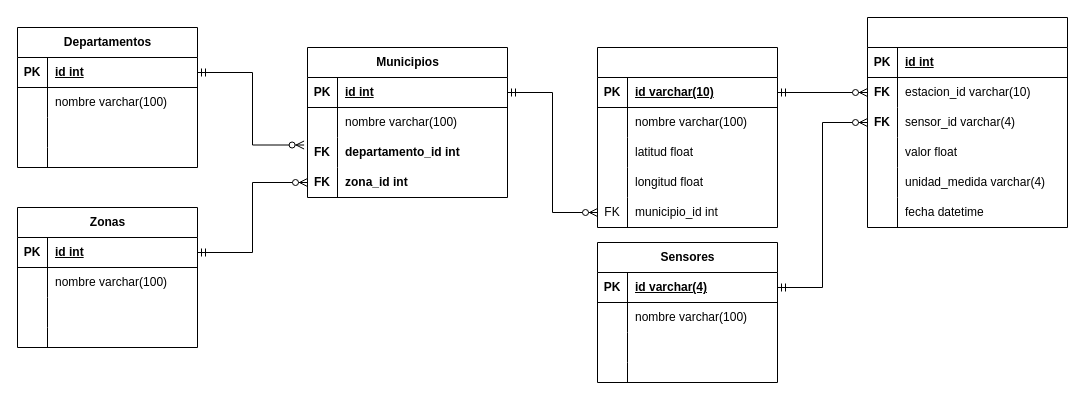
Image size: 1085x400. Some labels were removed from this diagram. Each missing label, with the box of its shape:
Estaciones: (596, 46, 778, 228)
Observaciones: (866, 16, 1068, 228)
